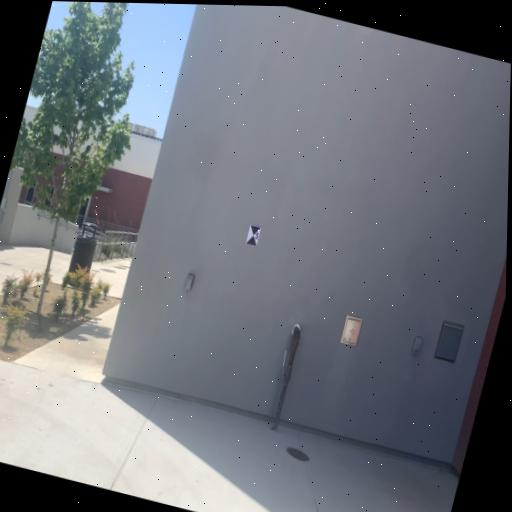target5: (245, 224, 262, 247)
